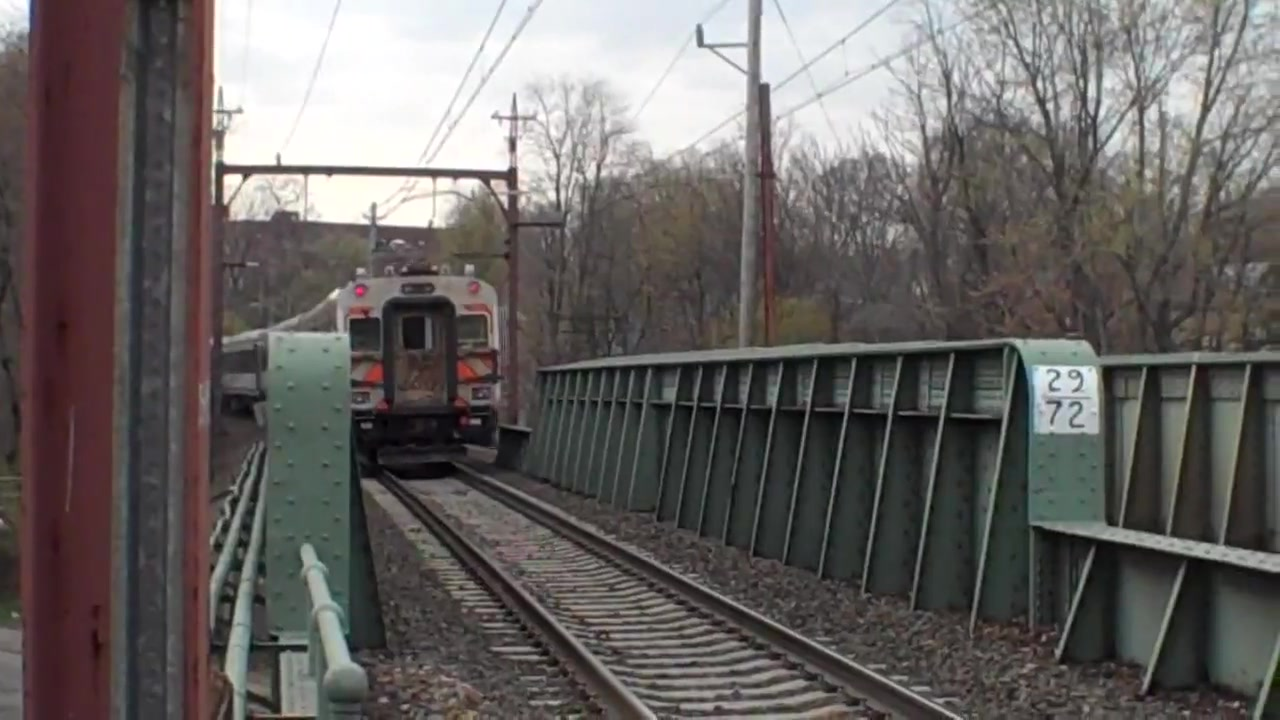train: (216, 256, 507, 461)
